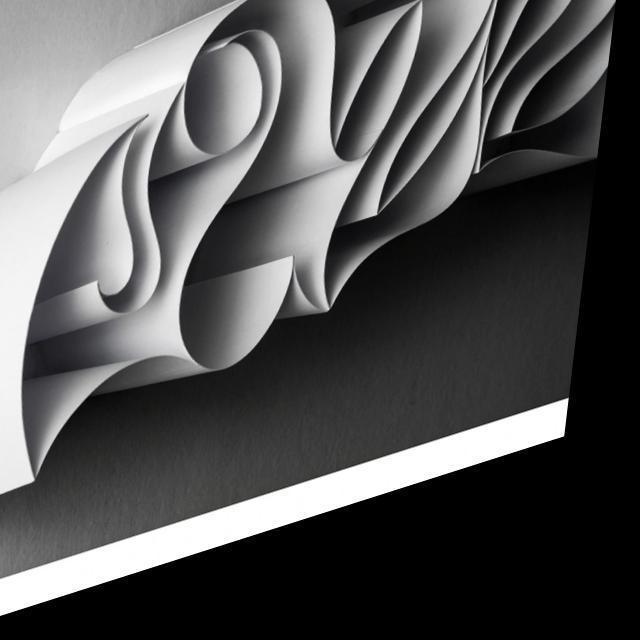nonspitting: (5, 0, 614, 493)
